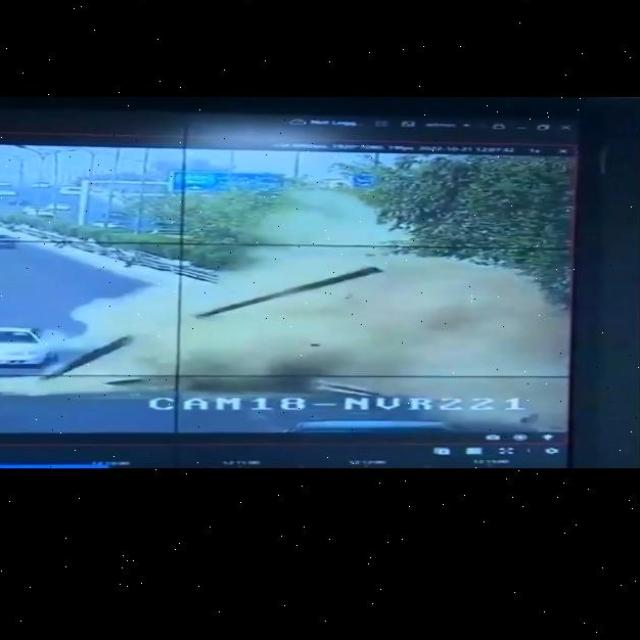accident: (63, 263, 585, 403)
